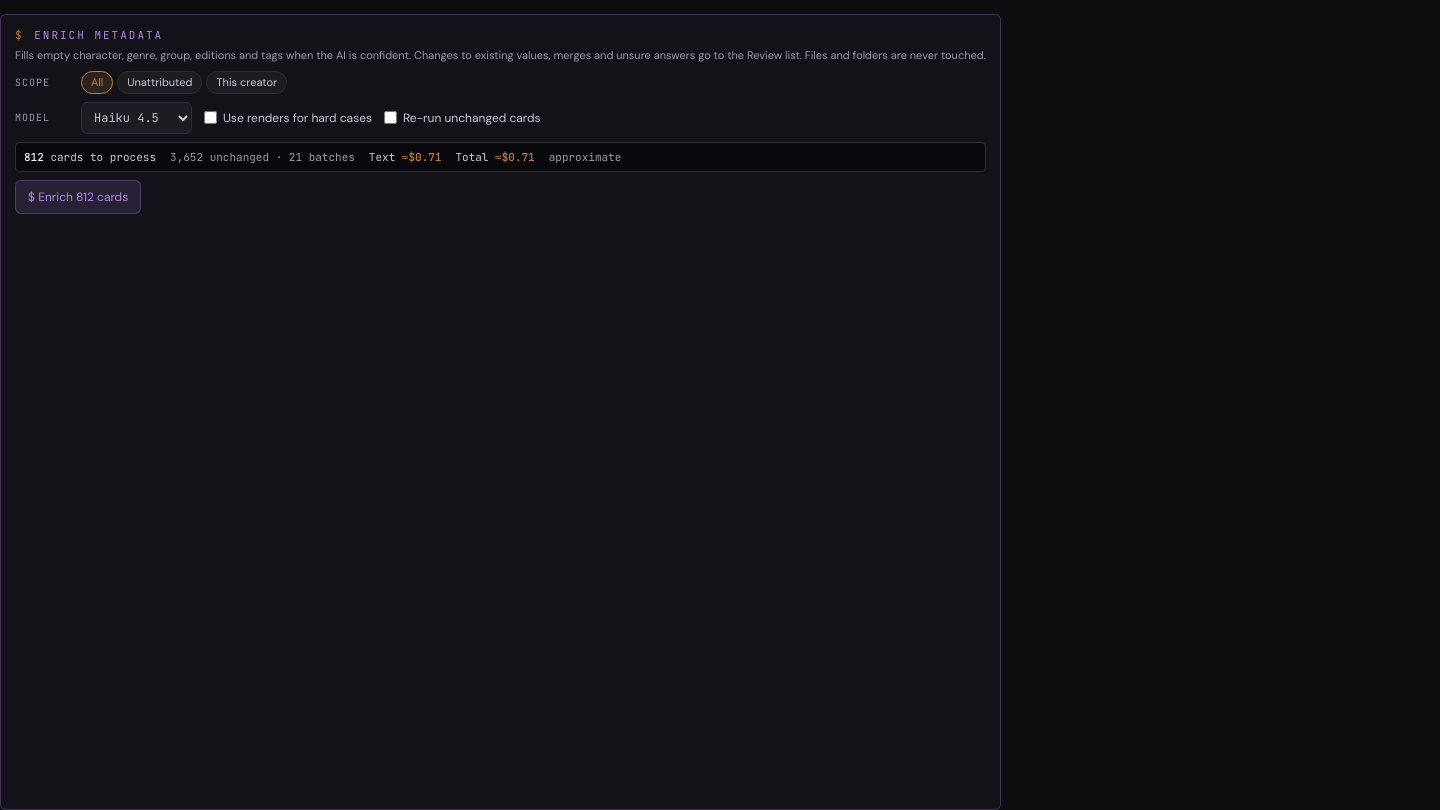
Test: EnrichPanel › a dropped connection (or another AI job running) is reported, not left spinning
Click the button "$ Enrich 812 cards" at (78, 197), box [15,180,141,214]
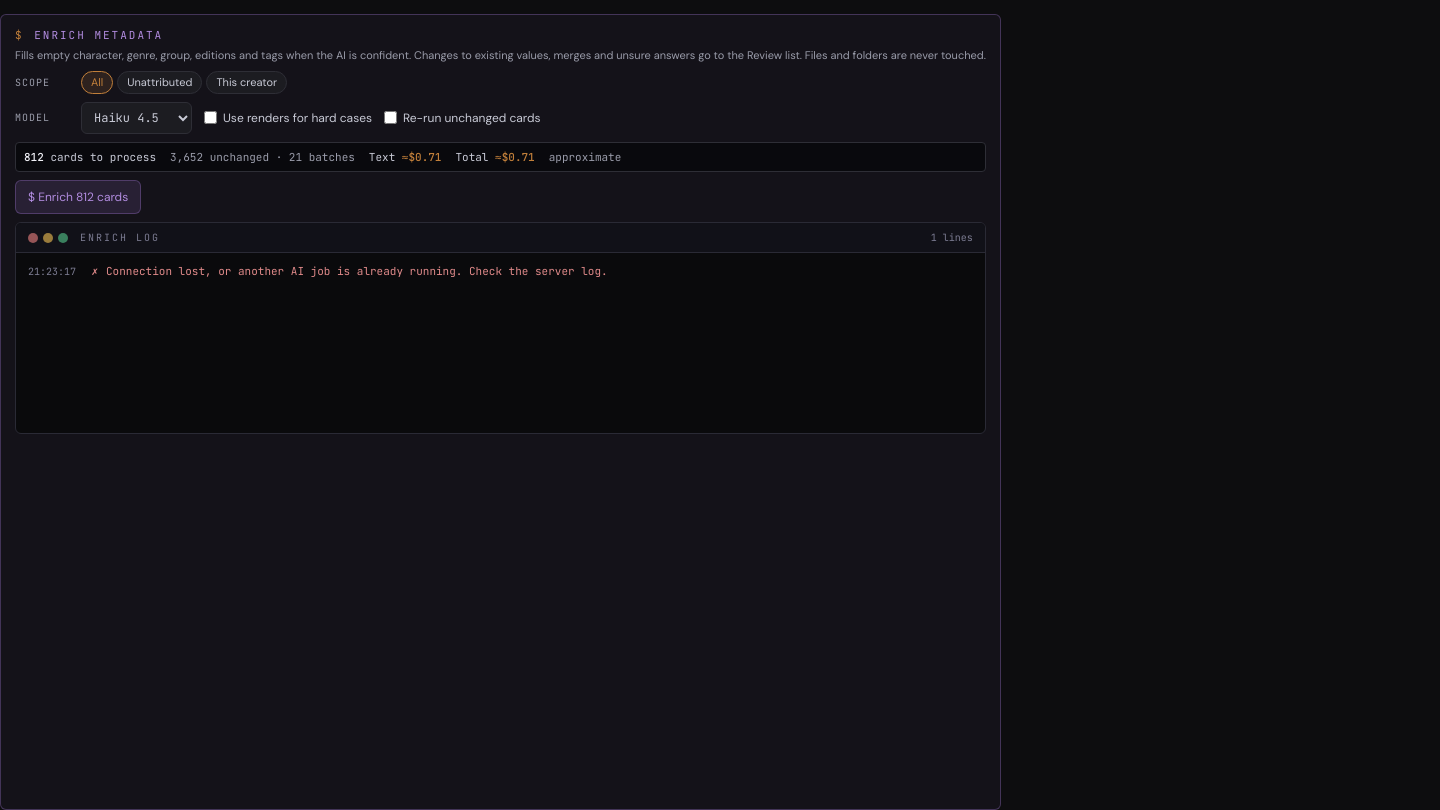
Expected: the text "another AI job is already running" is shown, [106,264,608,278]
